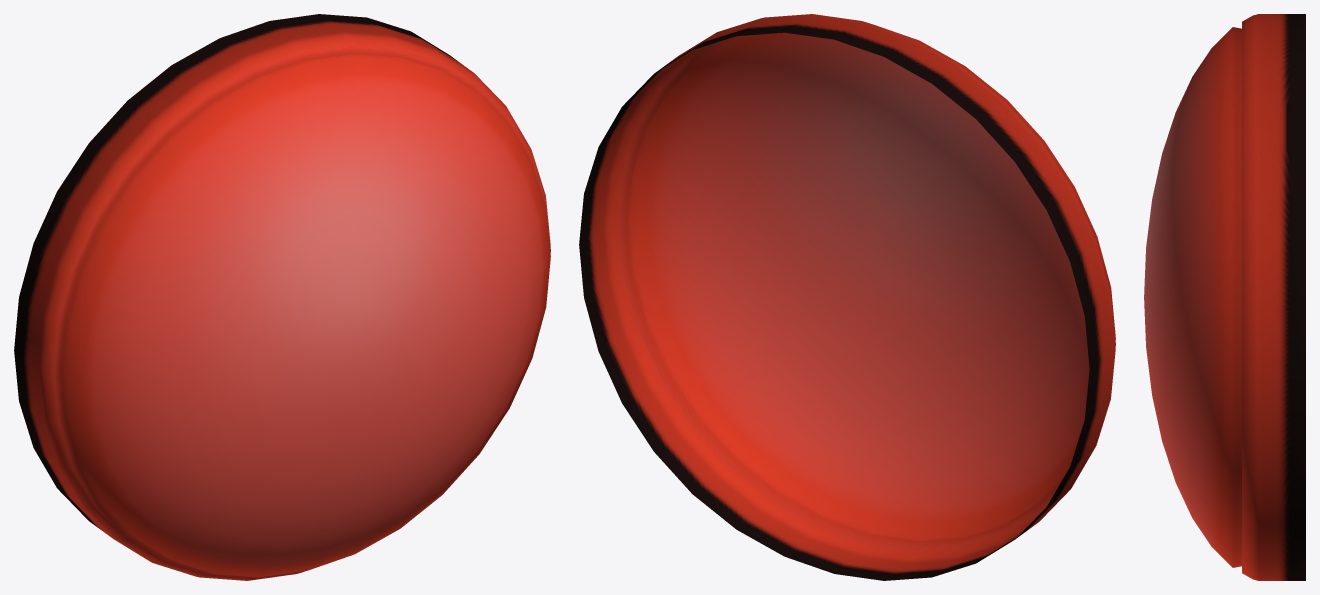
The model's file is DartGame_Button.fbx.
3 views of the same model, side by side, from view 1: azimuth 30°, elevation 25°; view 2: azimuth 150°, elevation 25°; view 3: azimuth 270°, elevation 25° (orthographic). The views are drawn at different scales.
Parts seen in each view (by area): view 1: DartGame_Button; view 2: DartGame_Button; view 3: DartGame_Button.
Part boxes in pixels (x1=…): DartGame_Button: x1=14, y1=14, x2=550, y2=580; DartGame_Button: x1=579, y1=14, x2=1115, y2=580; DartGame_Button: x1=1144, y1=14, x2=1305, y2=580.
Size of the model in its own units: 12.23 by 12.23 by 3.49.
